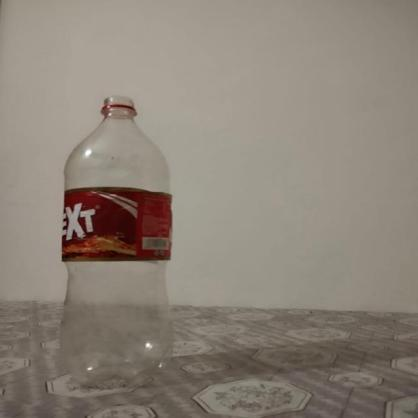bottle: (58, 95, 173, 390)
label: (61, 187, 174, 263)
